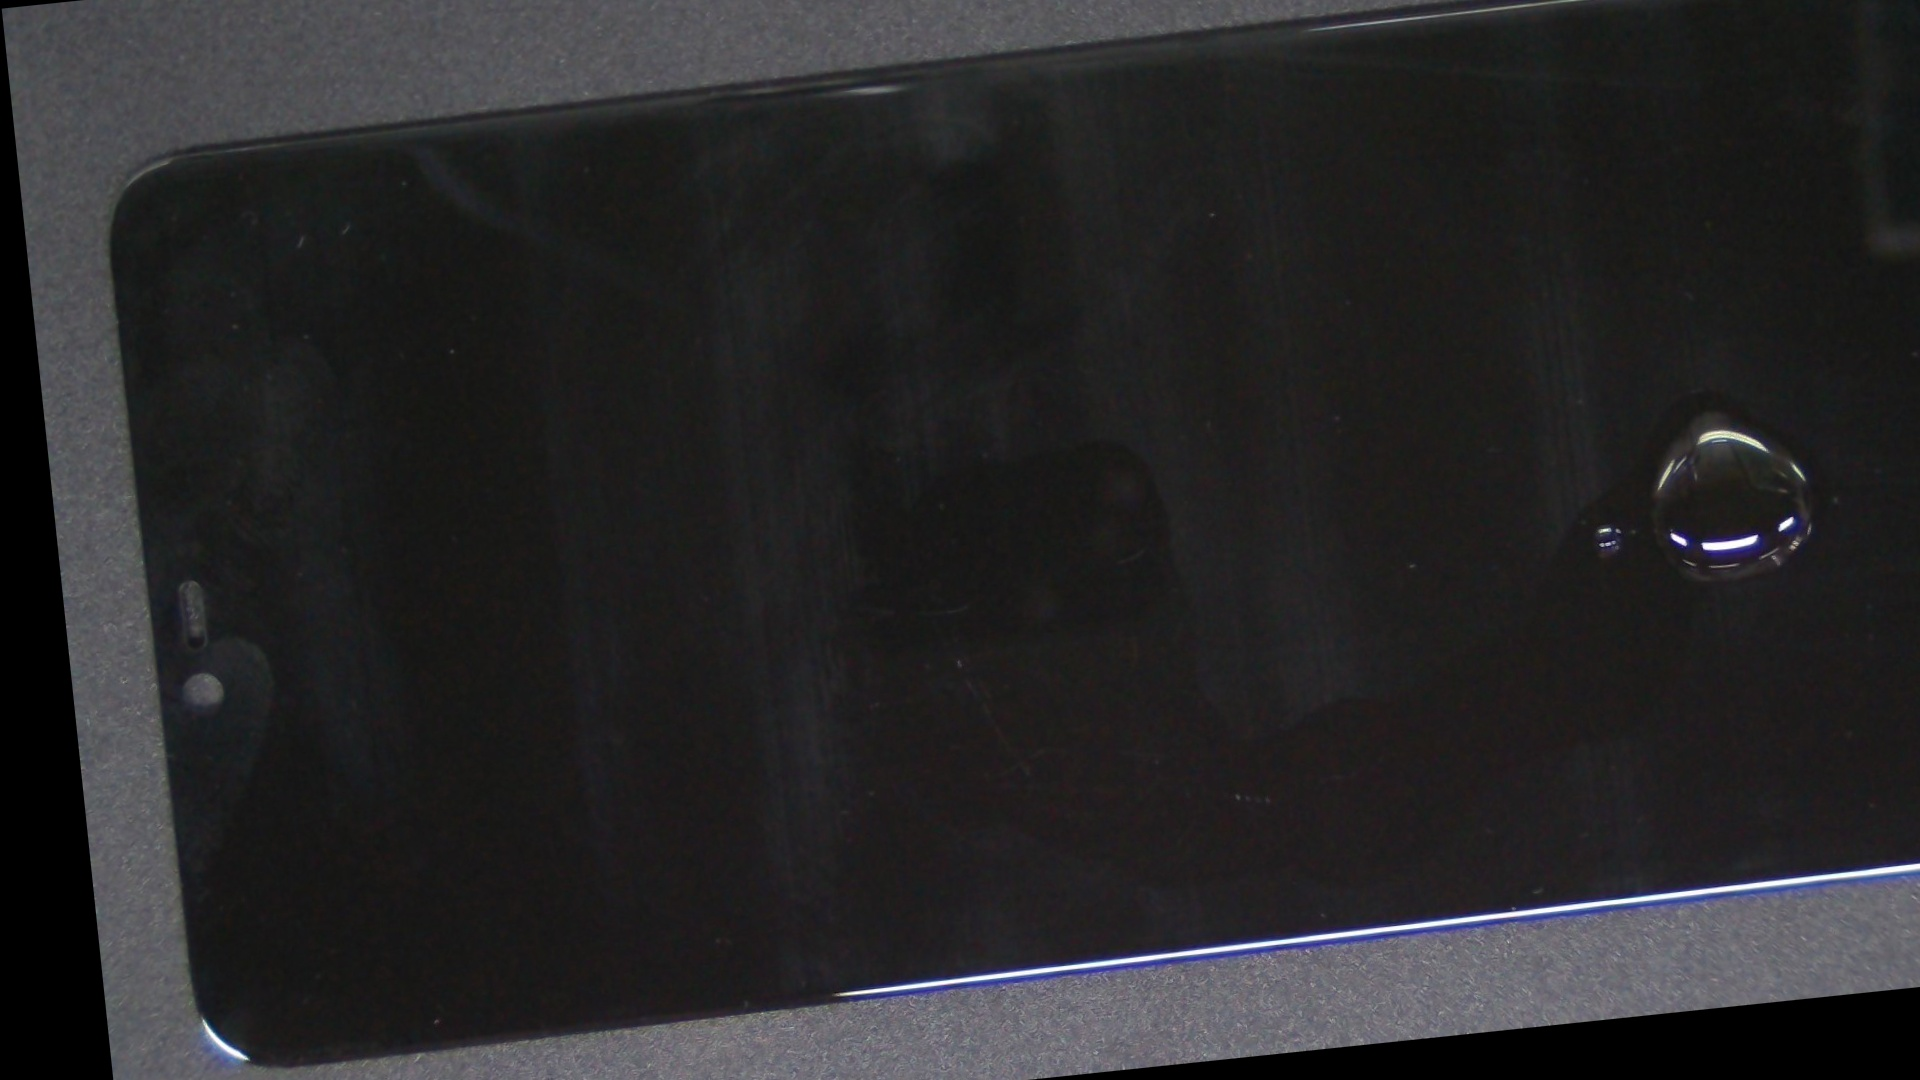oil: (804, 138, 1920, 942), (856, 88, 1920, 785)
